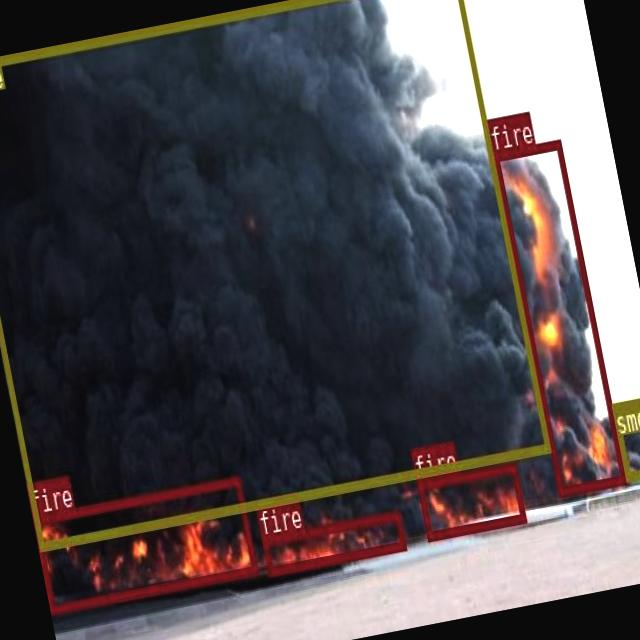fire: (492, 138, 625, 494), (32, 475, 258, 613), (261, 510, 405, 575), (416, 461, 526, 540)
smoke: (0, 0, 549, 548), (610, 393, 640, 480)
